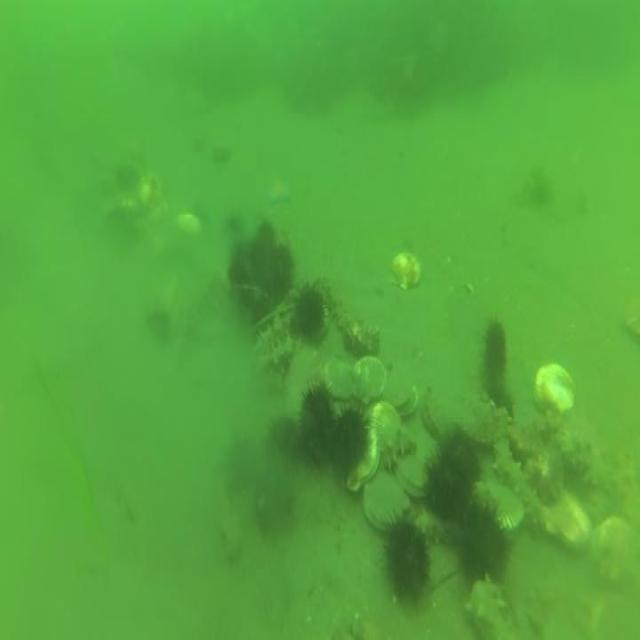echinus: (382, 512, 431, 602), (456, 501, 508, 585), (425, 450, 469, 520), (329, 403, 370, 472), (300, 379, 335, 458), (438, 427, 478, 488), (292, 282, 326, 342), (480, 315, 508, 387)
holothurian: (465, 570, 520, 640), (492, 430, 534, 504), (262, 292, 294, 380), (378, 424, 418, 474), (317, 275, 352, 330), (412, 508, 458, 548)
scallop: (591, 512, 640, 593), (540, 488, 591, 552), (362, 471, 412, 536), (474, 479, 524, 539), (456, 387, 500, 447), (531, 358, 575, 418), (343, 425, 381, 493), (349, 351, 388, 408), (420, 381, 457, 441), (369, 398, 402, 454), (381, 375, 418, 417), (322, 352, 354, 400), (396, 454, 430, 499), (389, 251, 424, 294)
